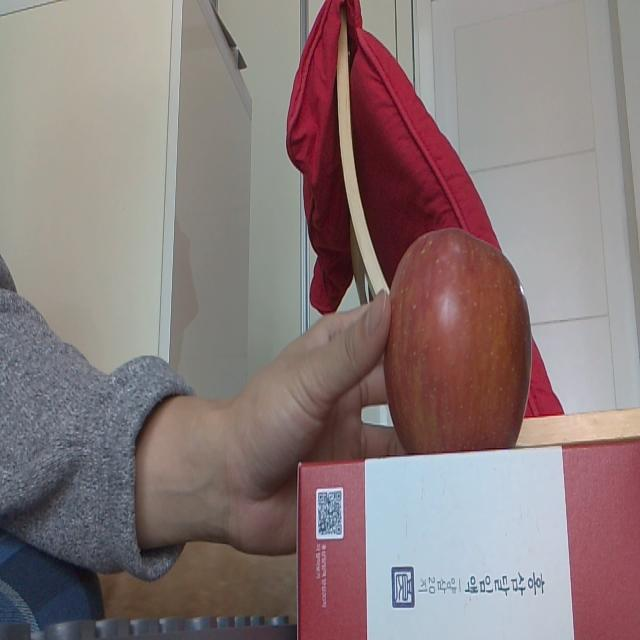apple: (382, 225, 533, 458)
